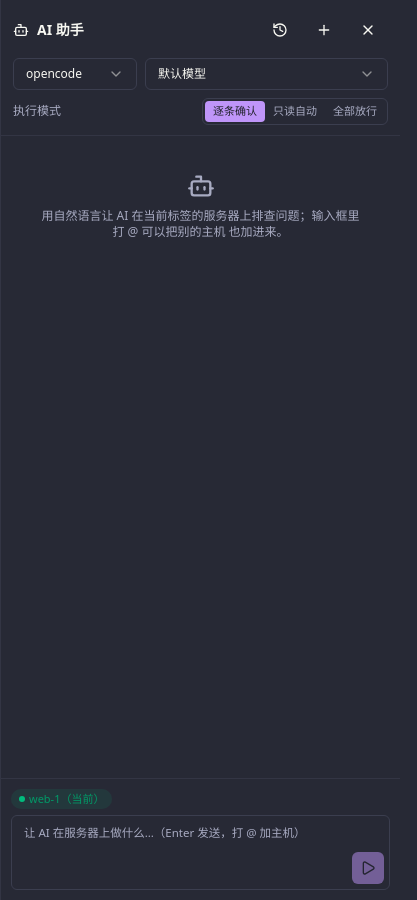
Scenario: 执行完的工具调用折叠 › 一轮里两条成功命令：一行「执行了 2 条命令」，默认收起，点开看到两张卡片，再点收起
Click the button titled "新对话": click(324, 30) left=304, top=10, right=344, bottom=50
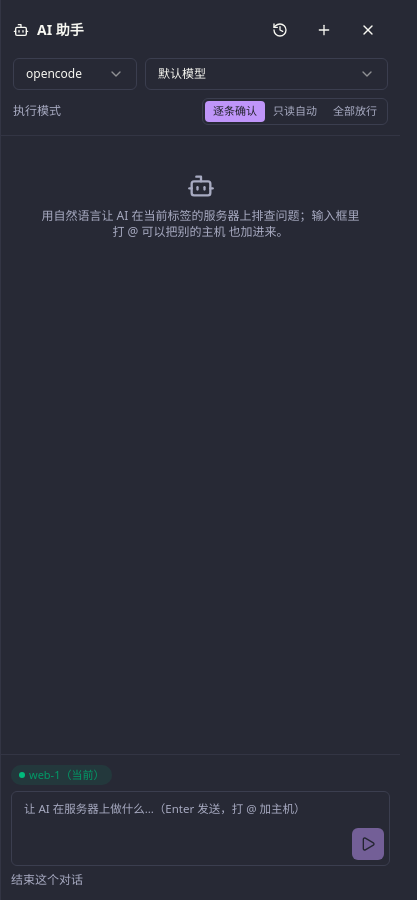
In the text box with placeholder "让 AI 在服务器上做什么…（Enter 发送，打 @ 加主机）": (200, 828) left=11, top=791, right=390, bottom=866, type "看看磁盘"
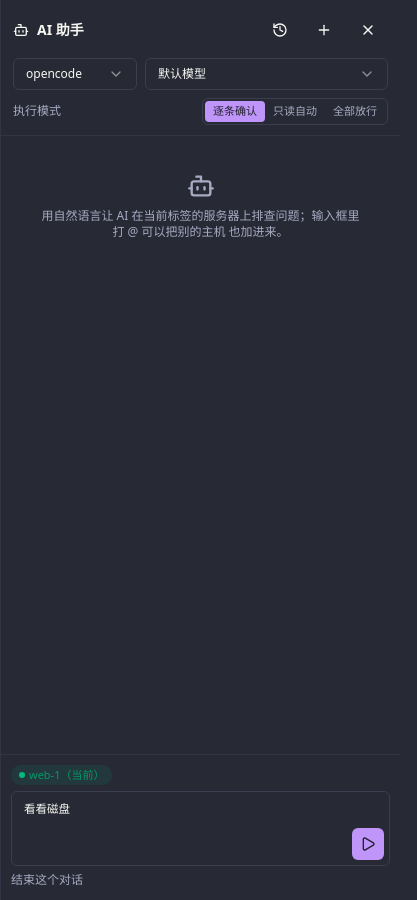
Click the button titled "发送": click(368, 844) left=352, top=828, right=384, bottom=860
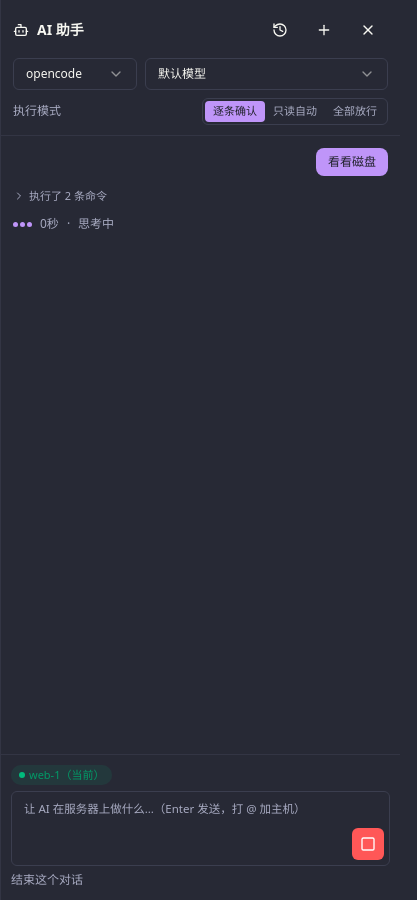
Expected: the text "df -h" is not shown
Now the element showing "执行了 2 条命令" is shown
Click the button "执行了 2 条命令": click(60, 196) left=13, top=188, right=107, bottom=204
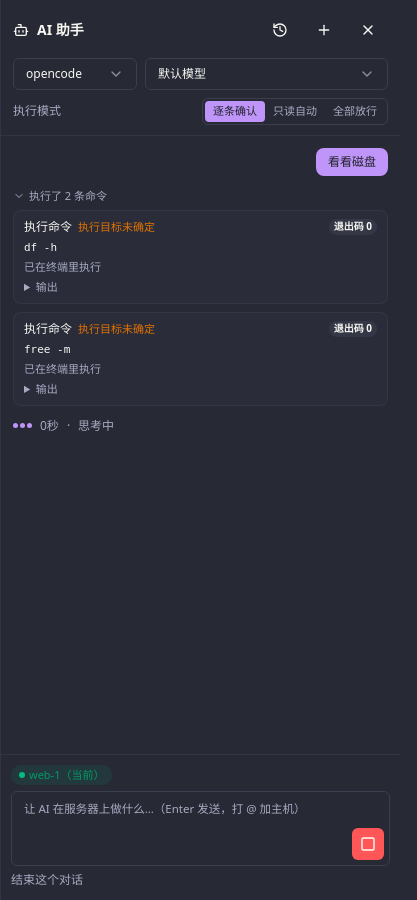
Now the text "df -h" is shown, box left=24, top=241, right=57, bottom=254
Now the text "free -m" is shown, box left=24, top=343, right=70, bottom=356
Now the element that starts with "执行了 2 条命令" shows "退出码 0", box left=334, top=219, right=372, bottom=233
Click the button "执行了 2 条命令": click(60, 196) left=13, top=188, right=107, bottom=204
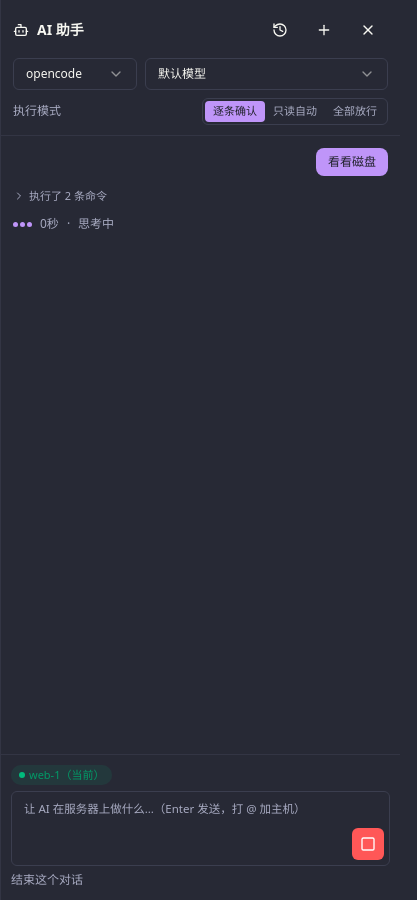
Now the text "df -h" is gone
